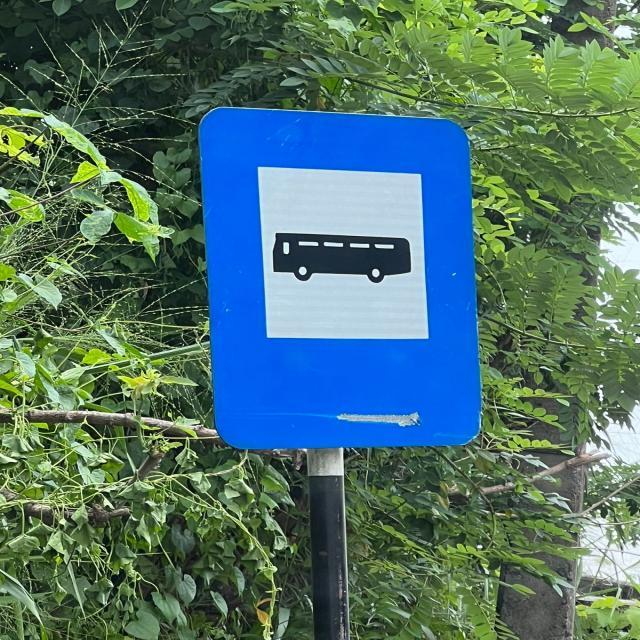bus_stop: (194, 101, 486, 454)
